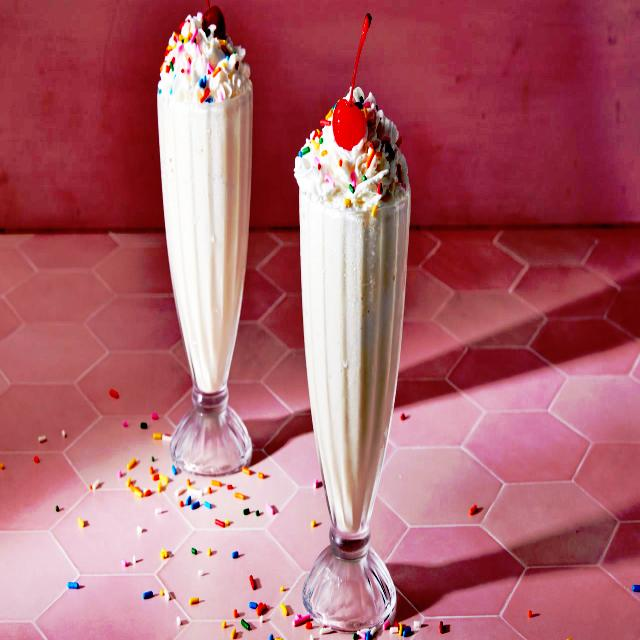drink: (293, 13, 409, 631), (157, 14, 253, 476)
